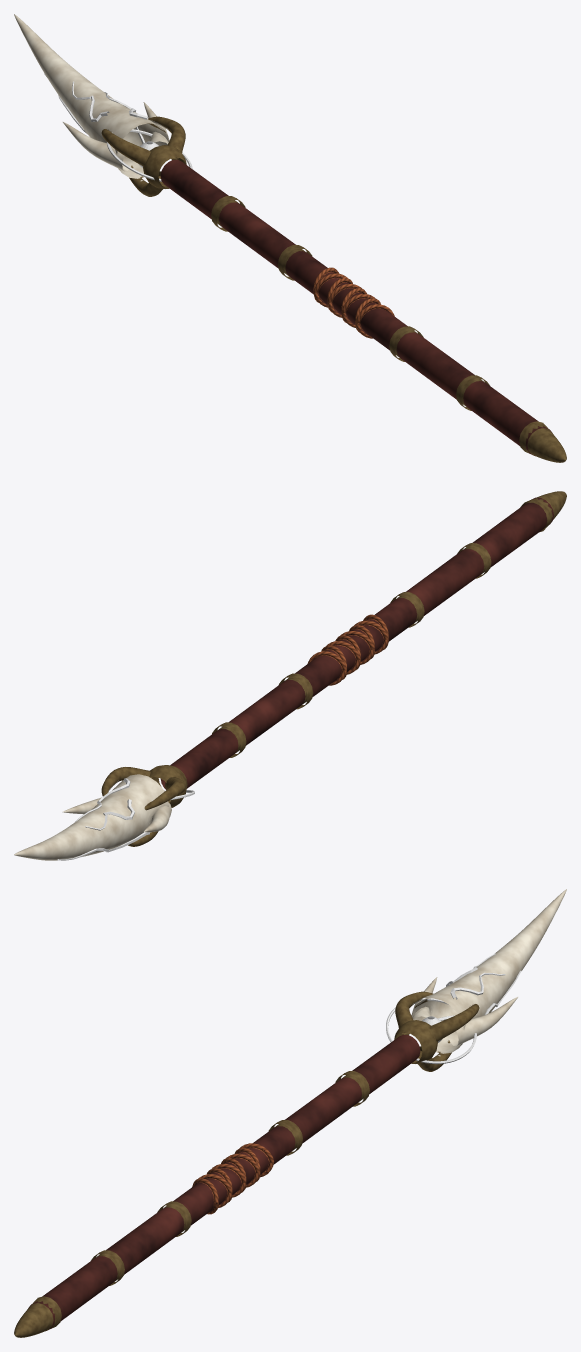
File: Spear3.fbx
3 views of the same model, one above another, from view 1: azimuth 30°, elevation 25°; view 2: azimuth 150°, elevation 25°; view 3: azimuth 330°, elevation 25° (orthographic).
Visible parts, largest first — view 1: Spear3_Body, Spear3_Glow_ff6414; view 2: Spear3_Body, Spear3_Glow_ff6414; view 3: Spear3_Body, Spear3_Glow_ff6414, Spear3_Glow_14d296.
Boxes of the visible parts, box(x1,y1,x2,y2) form: Spear3_Body: box(14, 14, 566, 462); Spear3_Glow_ff6414: box(44, 73, 147, 143); Spear3_Body: box(14, 491, 566, 860); Spear3_Glow_ff6414: box(57, 778, 149, 860); Spear3_Body: box(14, 889, 566, 1337); Spear3_Glow_ff6414: box(438, 953, 521, 1020); Spear3_Glow_14d296: box(386, 998, 476, 1064).
Size of the model in its own units: 0.8476 by 0.8276 by 9.91.
3 materials, 1 textured.
